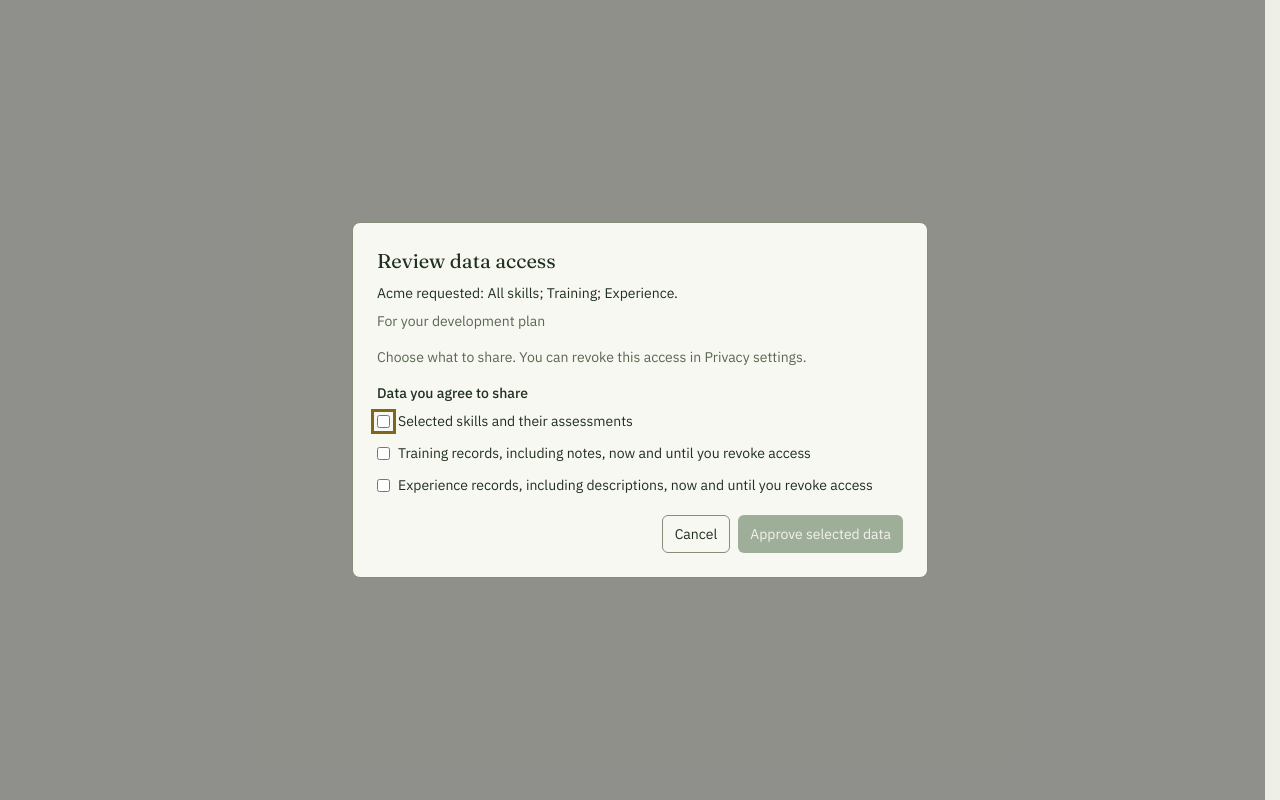
it: all-skills requests offer existing skills without automatically selecting them
Click the checkbox labelled "Selected skills and their assessments".
click(384, 422)  # box [377,415,390,428]
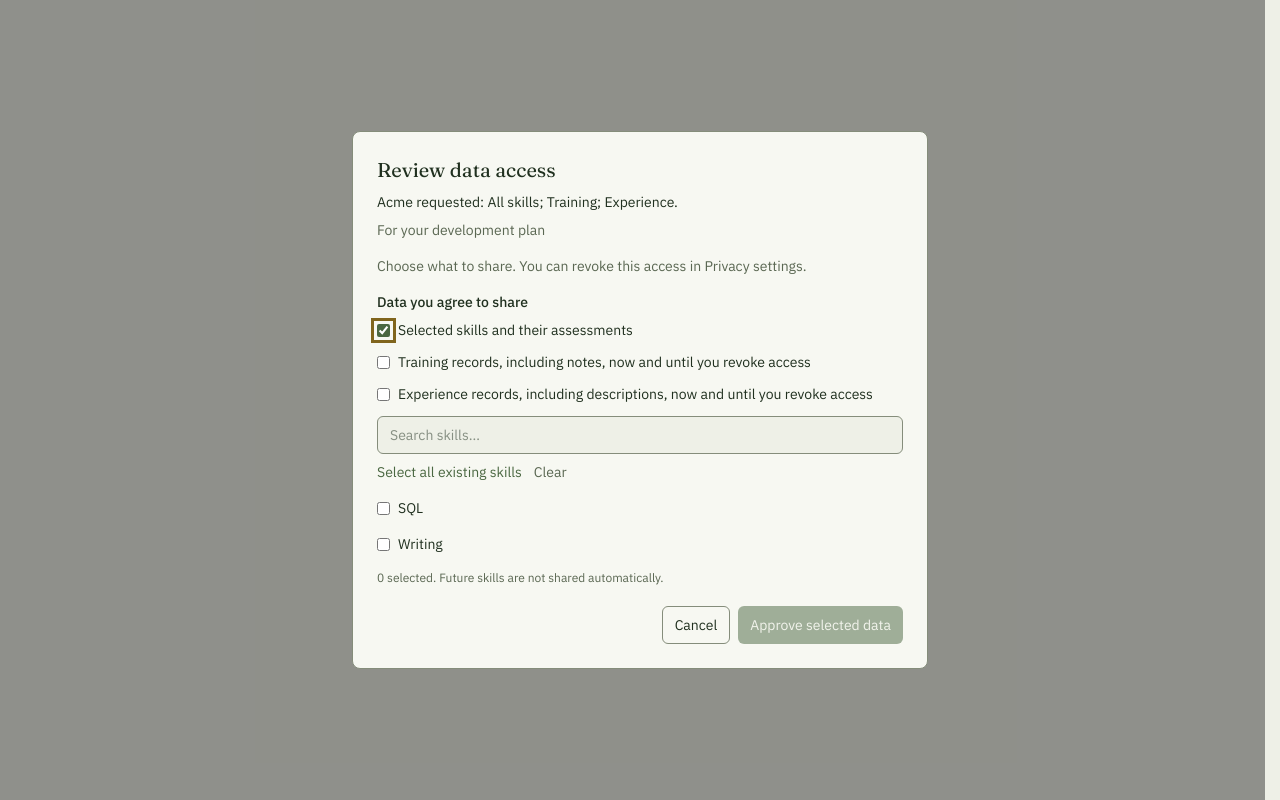
Expected: the checkbox labelled "Writing" is not checked, [377,538,390,550]
Click the button "Select all existing skills".
click(449, 472)  # box [377,462,522,482]
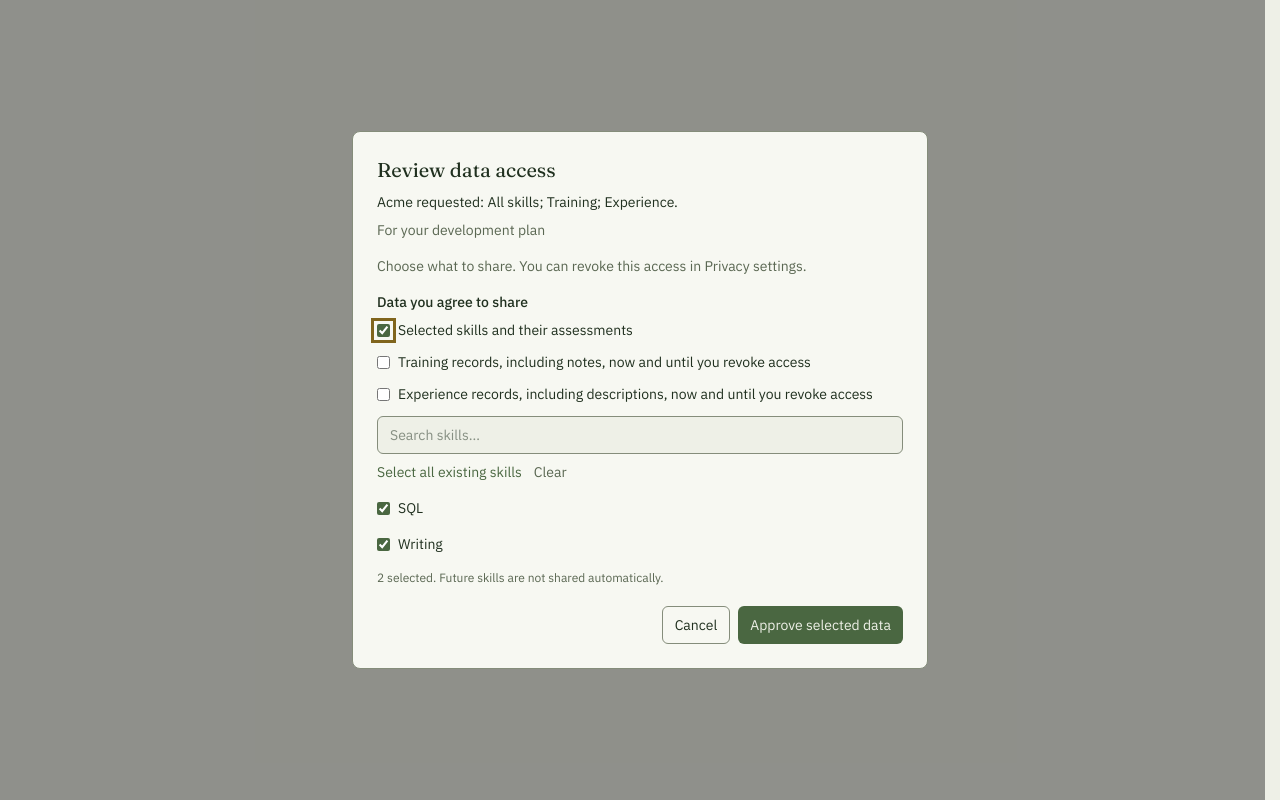
Expected: the checkbox labelled "SQL" is checked, [377,502,390,514]
Expected: the checkbox labelled "Writing" is checked, [377,538,390,550]
